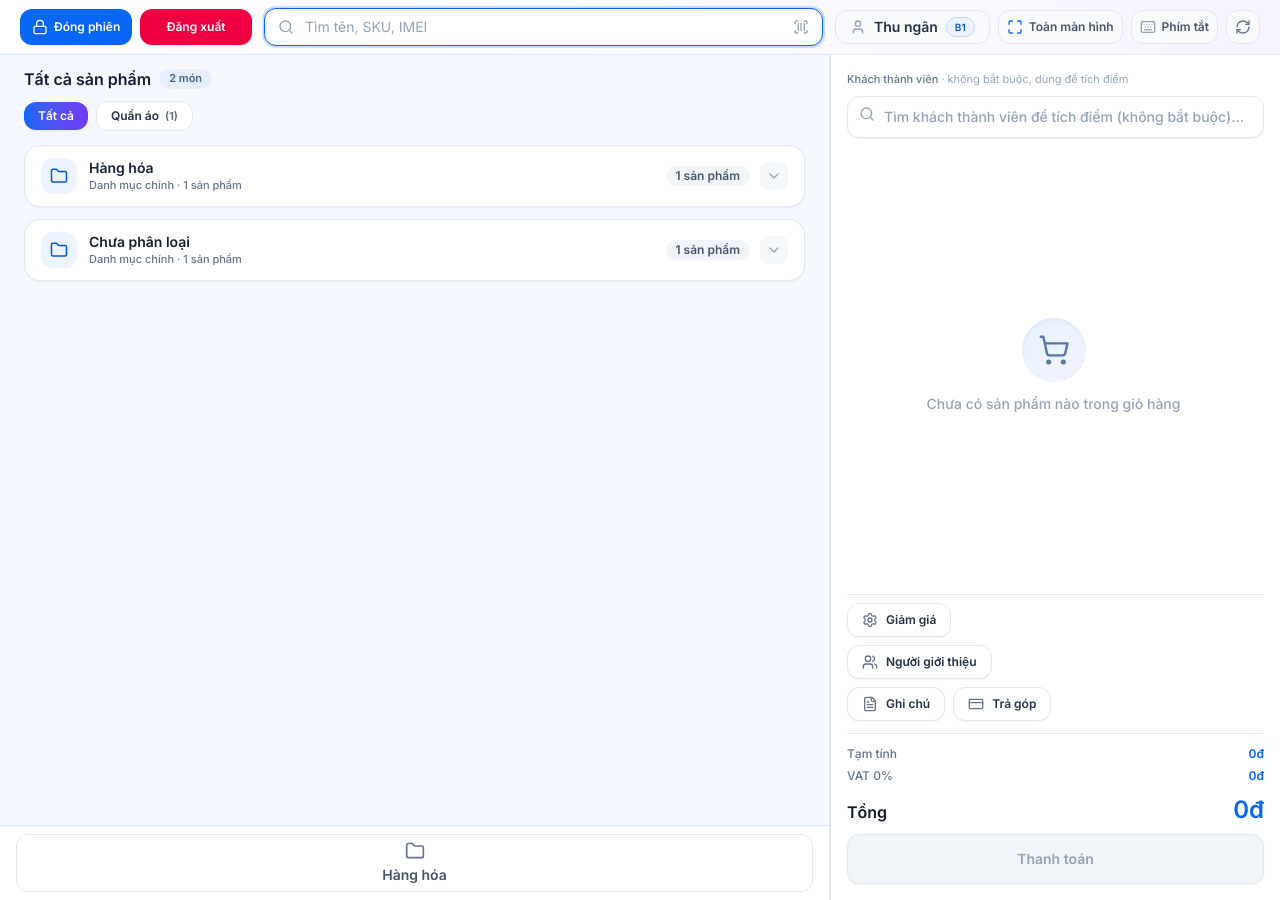
Scenario: RetailPosPage › nests products in inventory folders and supports expanding level by level and adding a nested SKU
The width and height of the screenshot is (1280, 900).
// Click Level 1 to reveal Level 2
Click the button "Hàng hóa Danh mục chính · 1 sản phẩm 1 sản phẩm" at (59, 176), box [25,146,804,206]
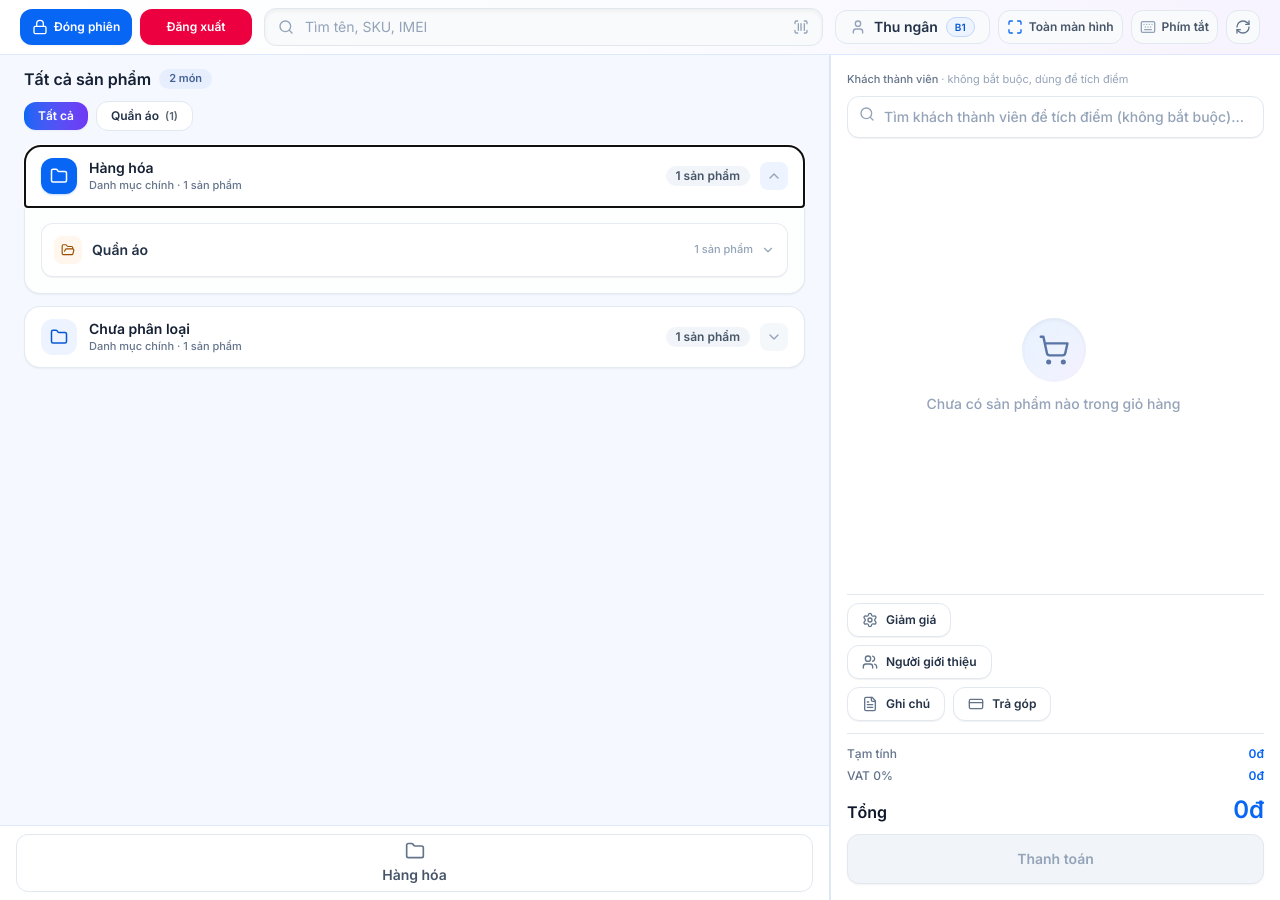
Expected: the button "Áo thun" is not shown
Expected: the button "Hàng hóa Danh mục chính · 1 sản phẩm 1 sản phẩm" is expanded, [25,146,804,207]
Click the button "Quần áo 1 sản phẩm" at (120, 249), box [54,236,775,264]
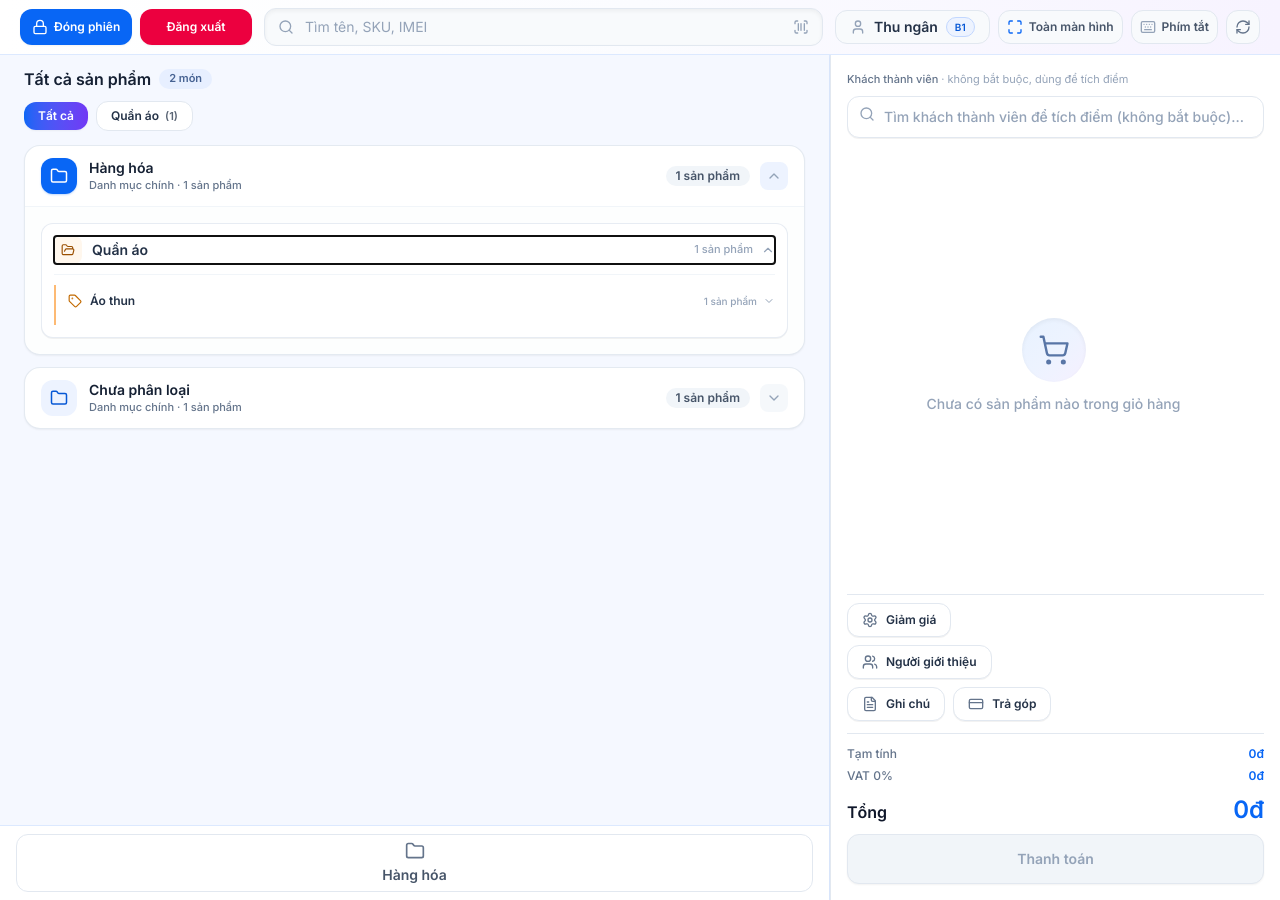
Expected: the button "Chưa phân loại Danh mục chính · 1 sản phẩm 1 sản phẩm" is shown, [25,368,804,428]
// Collapsing root hides children
Click the button "Hàng hóa Danh mục chính · 1 sản phẩm 1 sản phẩm" at (59, 176), box [25,146,804,207]
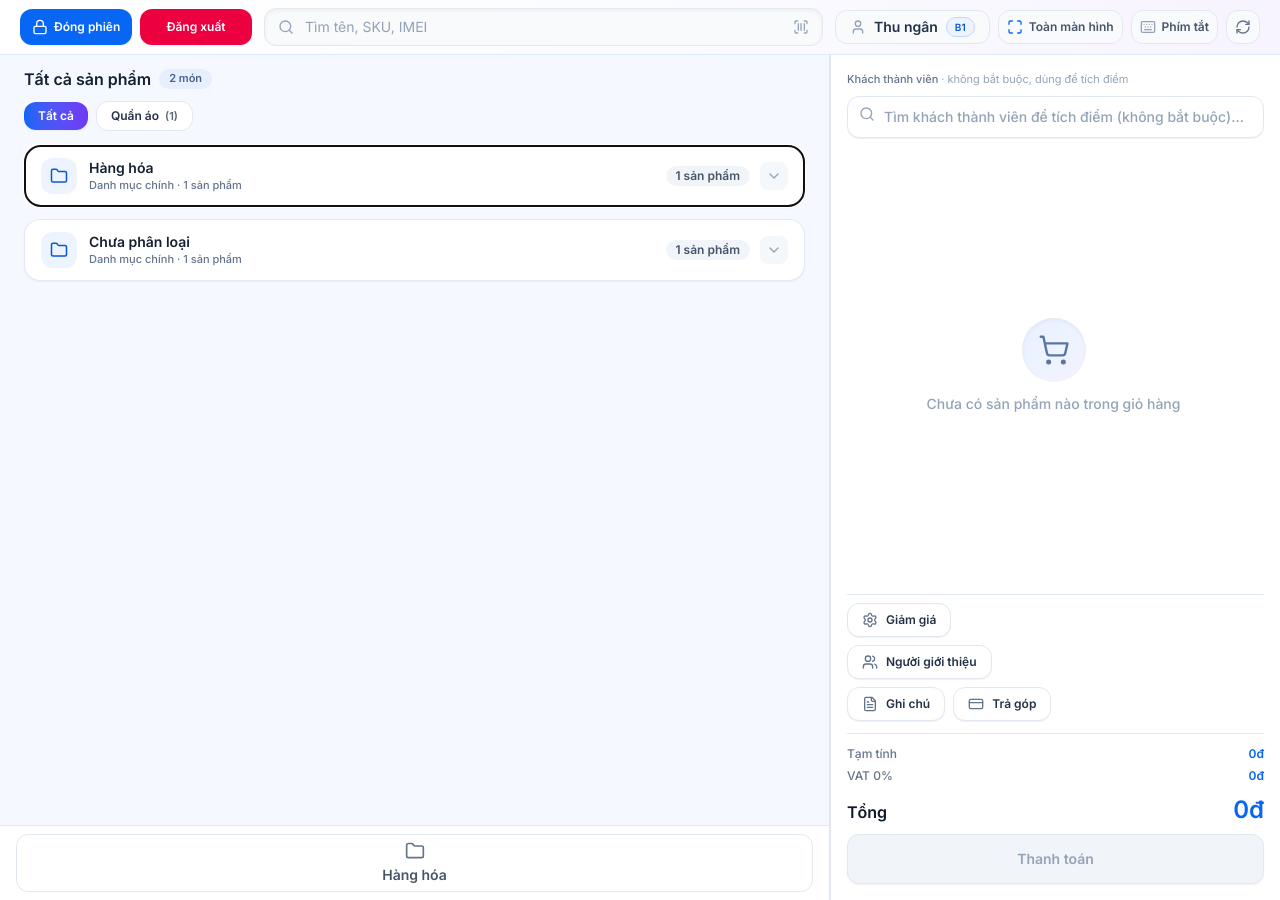
Expected: the button "SKU-1" is not shown
Expected: the button "Hàng hóa Danh mục chính · 1 sản phẩm 1 sản phẩm" is collapsed
// Expand root & leaf to click SKU
Click the button "Hàng hóa Danh mục chính · 1 sản phẩm 1 sản phẩm" at (59, 176), box [25,146,804,206]
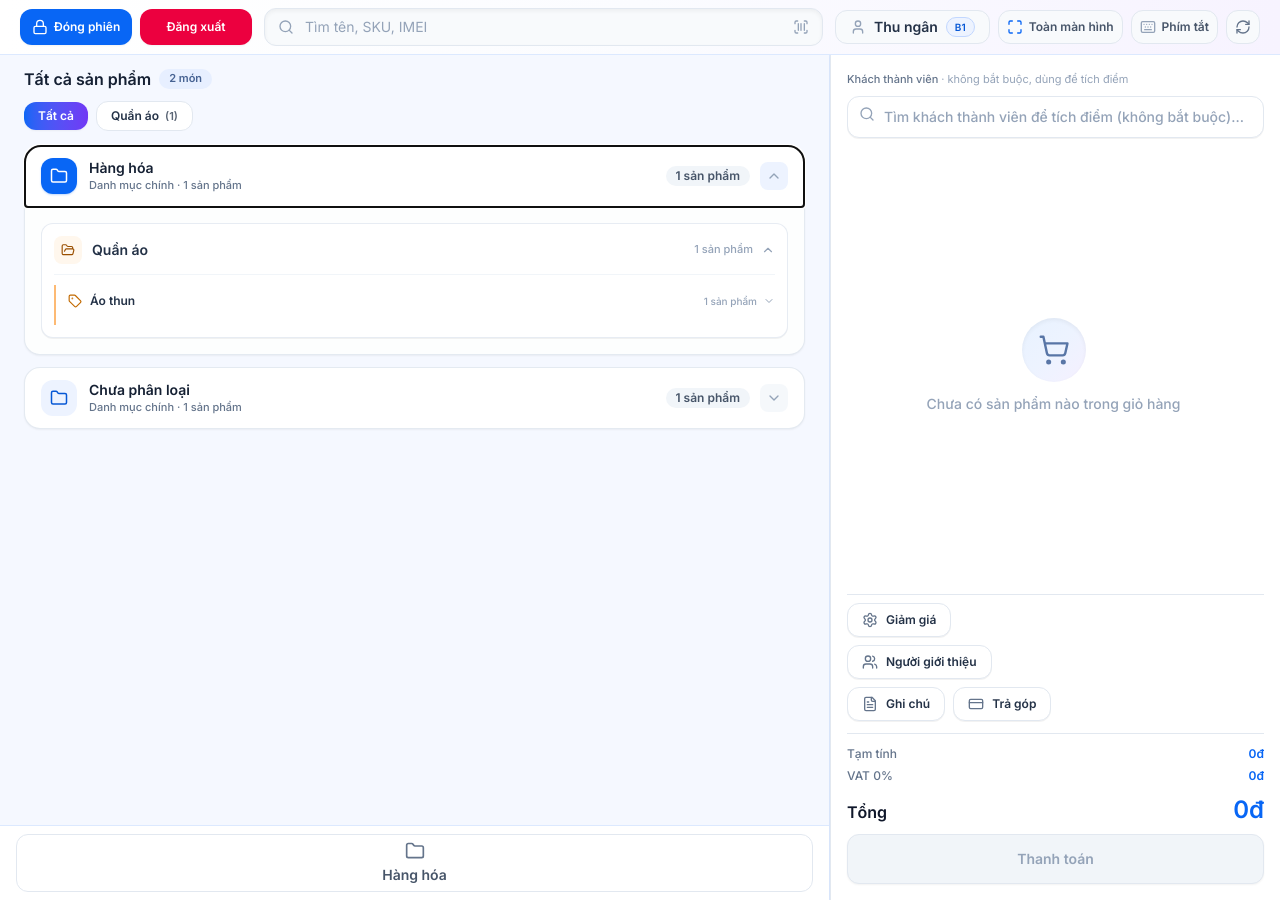
Click the button "Áo thun 1 sản phẩm" at (113, 300), box [68,289,775,313]
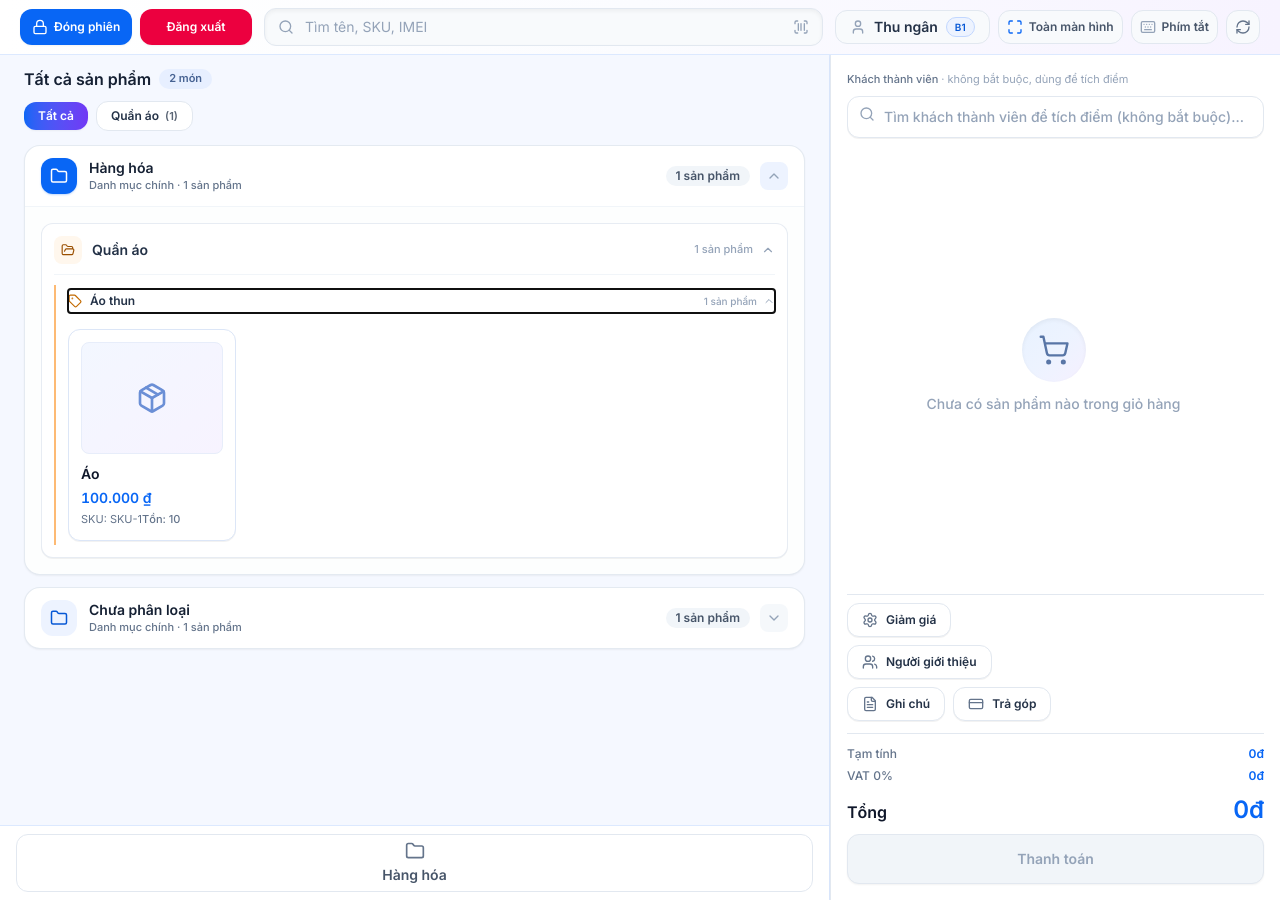
Click the button "Áo 100.000 ₫ SKU: SKU-1 Tồn: 10" at (152, 435), box [81,342,223,528]
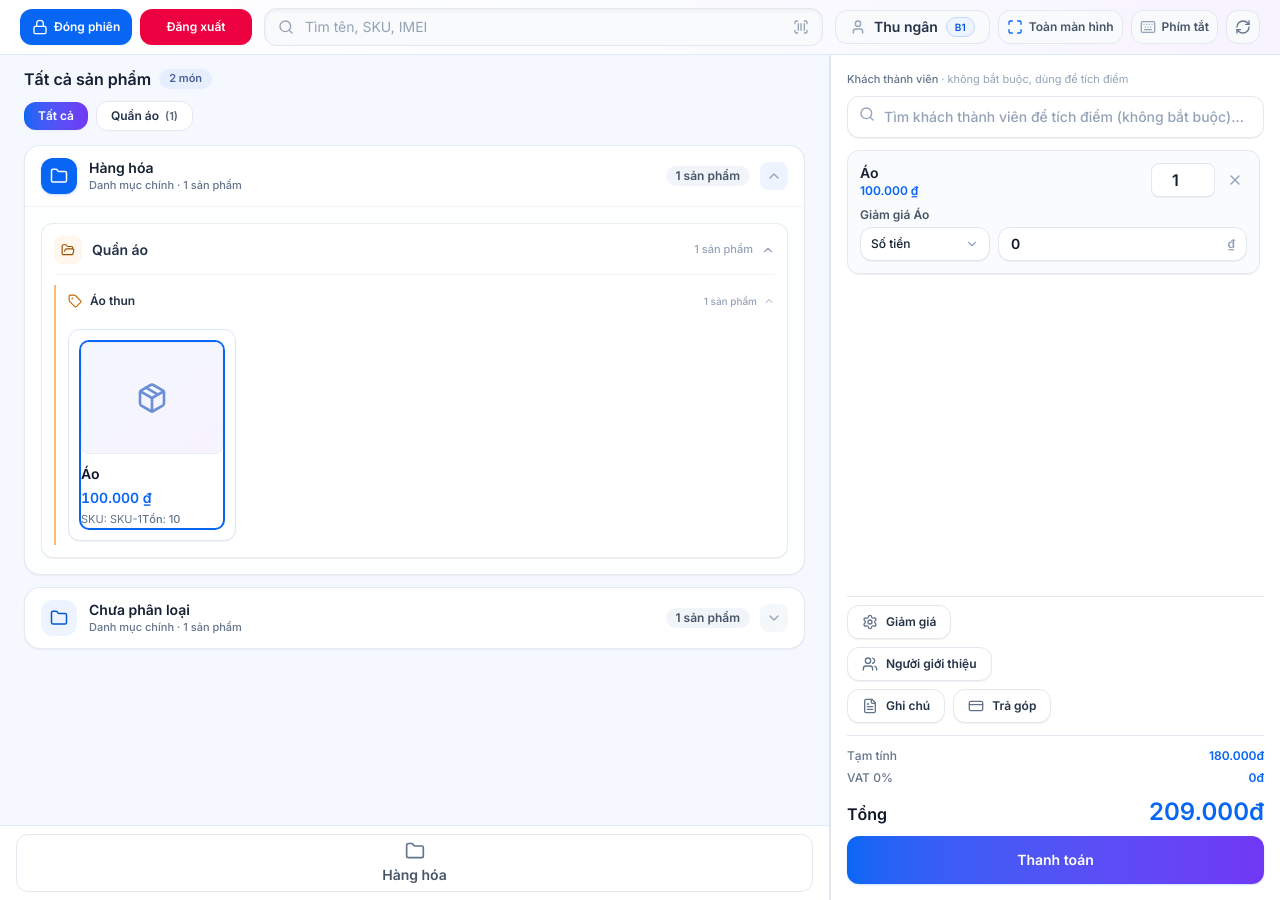
Expected: the number field named "Số lượng Áo" holds "1", [1151,162,1215,196]
